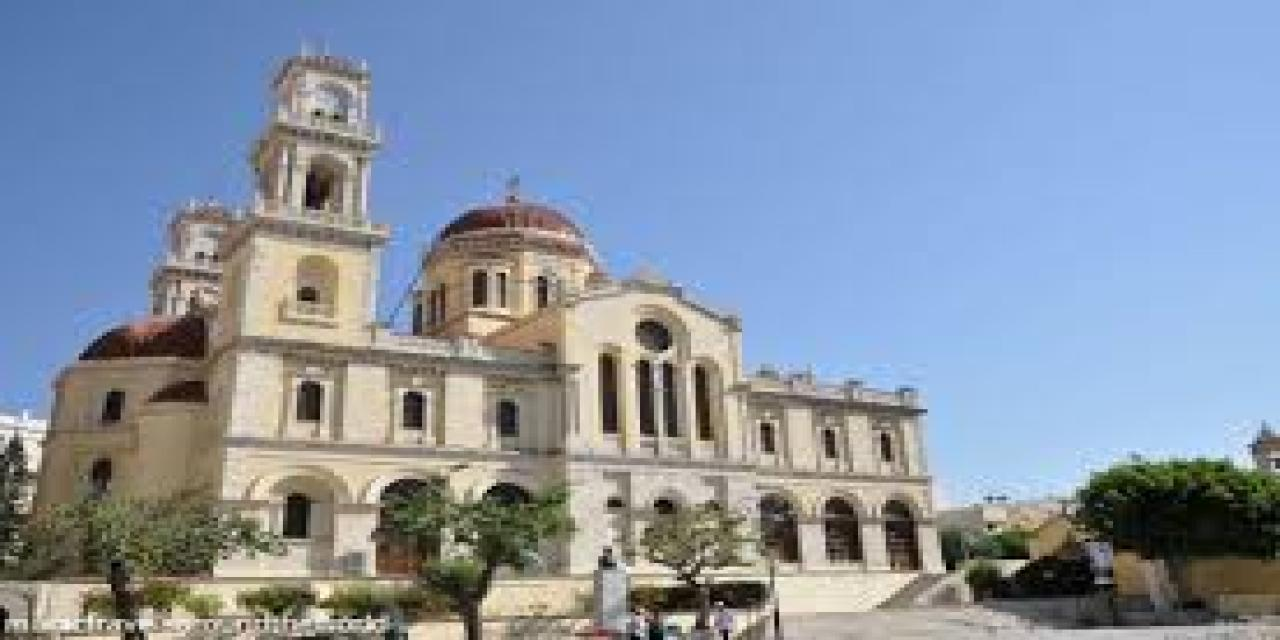Agios Minas: (20, 46, 956, 579)
